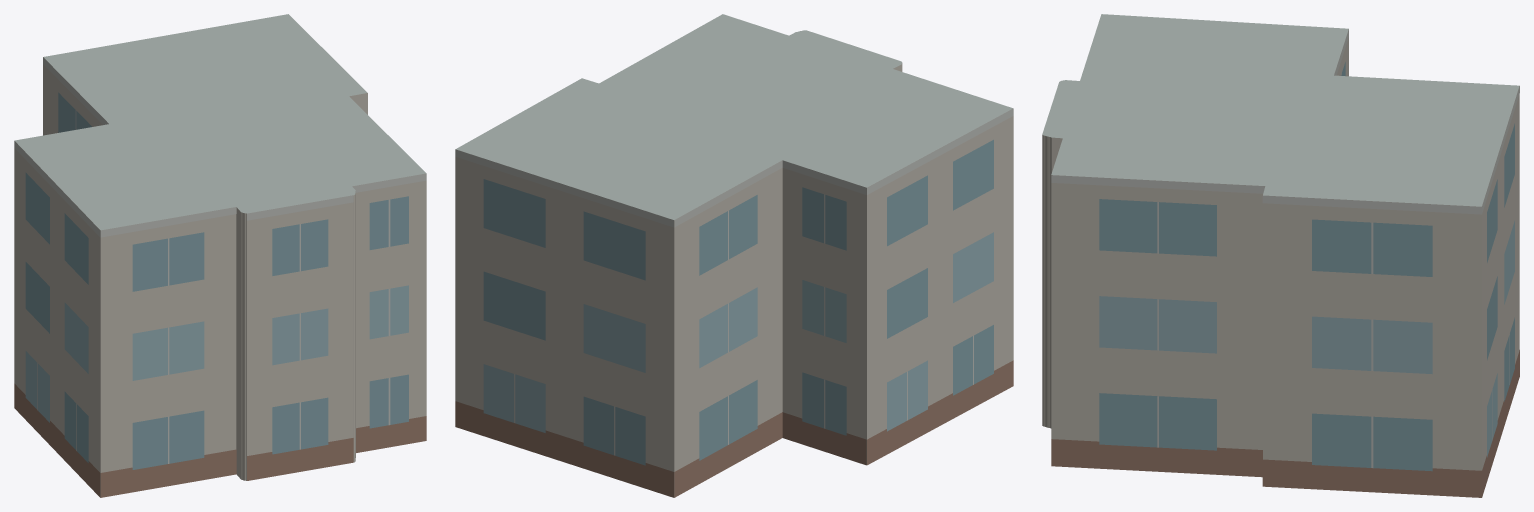
Rendered from survey-upis-32980065.glb.
3 renders of one model, left to right at view 1: azimuth 30°, elevation 25°; view 2: azimuth 150°, elevation 25°; view 3: azimuth 270°, elevation 25°, orthographic. The views are drawn at different scales.
Visible parts, largest first — view 1: survey-upis-32980065.tmp; view 2: survey-upis-32980065.tmp; view 3: survey-upis-32980065.tmp.
Part boxes in pixels (x1,y1,x2,y2): survey-upis-32980065.tmp: (14,14,426,497); survey-upis-32980065.tmp: (455,14,1013,497); survey-upis-32980065.tmp: (1042,14,1519,497).
Size of the model in its own units: 12.93 by 9.1 by 13.53.
